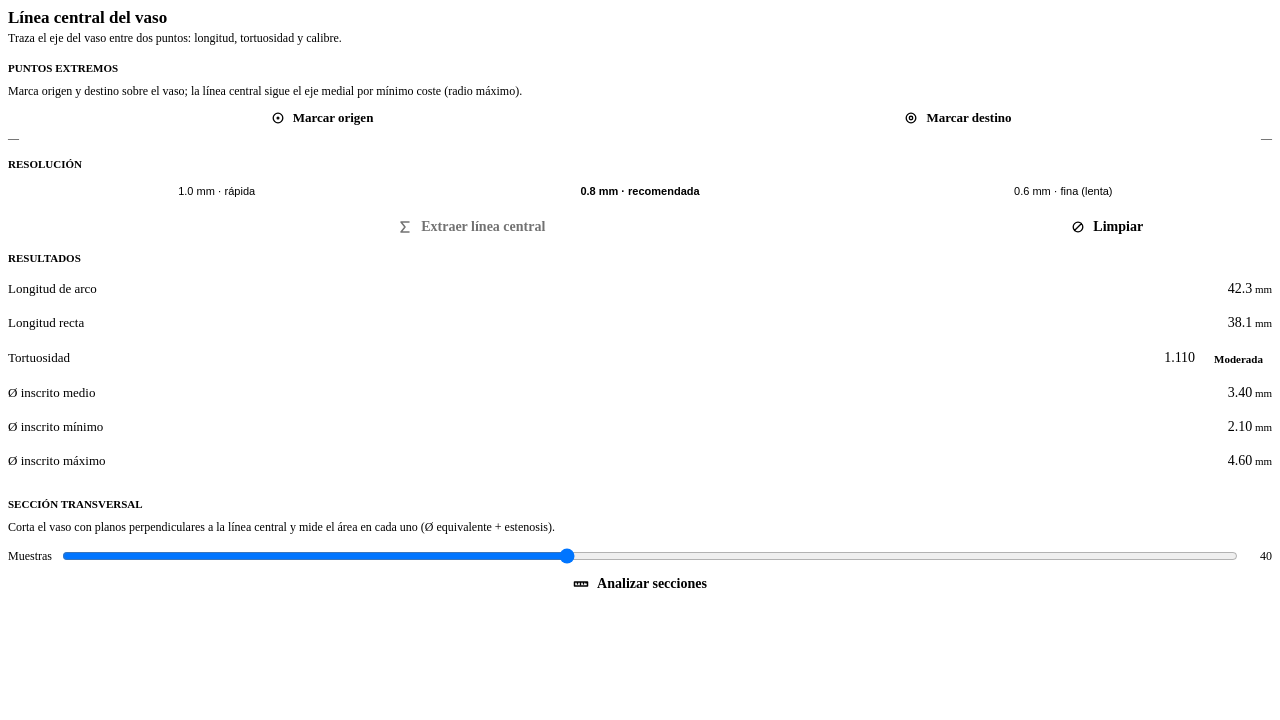
Test case: los rótulos de la línea central y de las secciones › un perfil irregular enseña la nota y no un grado
Expected: the text "Tortuosidad" is shown, [8,350,70,366]
Click the button "Analizar secciones". click: click(640, 584)
box: [8,576,1272,592]
(page scrolled)
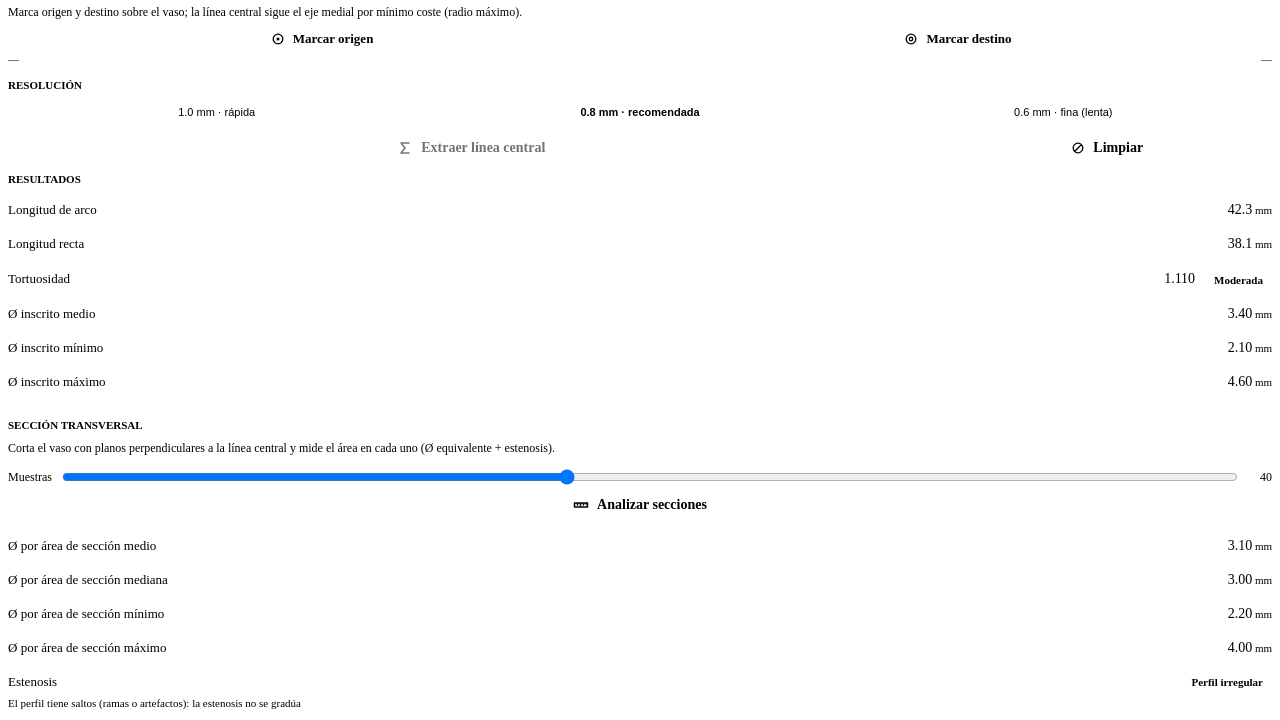
Expected: the text "Perfil irregular" is shown, [1191,676,1263,688]
Expected: the text "El perfil tiene saltos (ramas o artefactos): la estenosis no se gradúa" is shown, [8,697,301,709]
